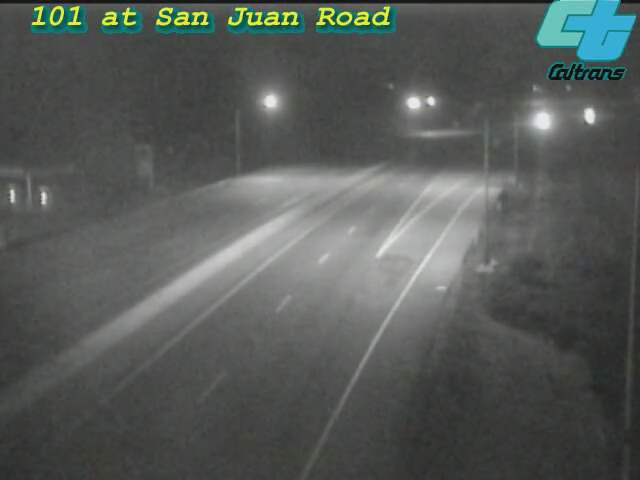vehicle: (516, 98, 566, 148), (563, 91, 613, 141)
